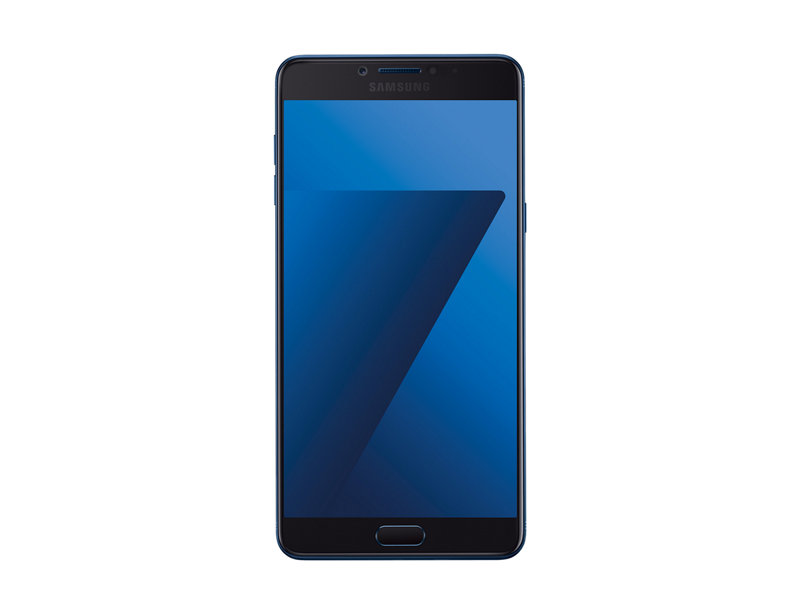mobile: (268, 52, 542, 560)
